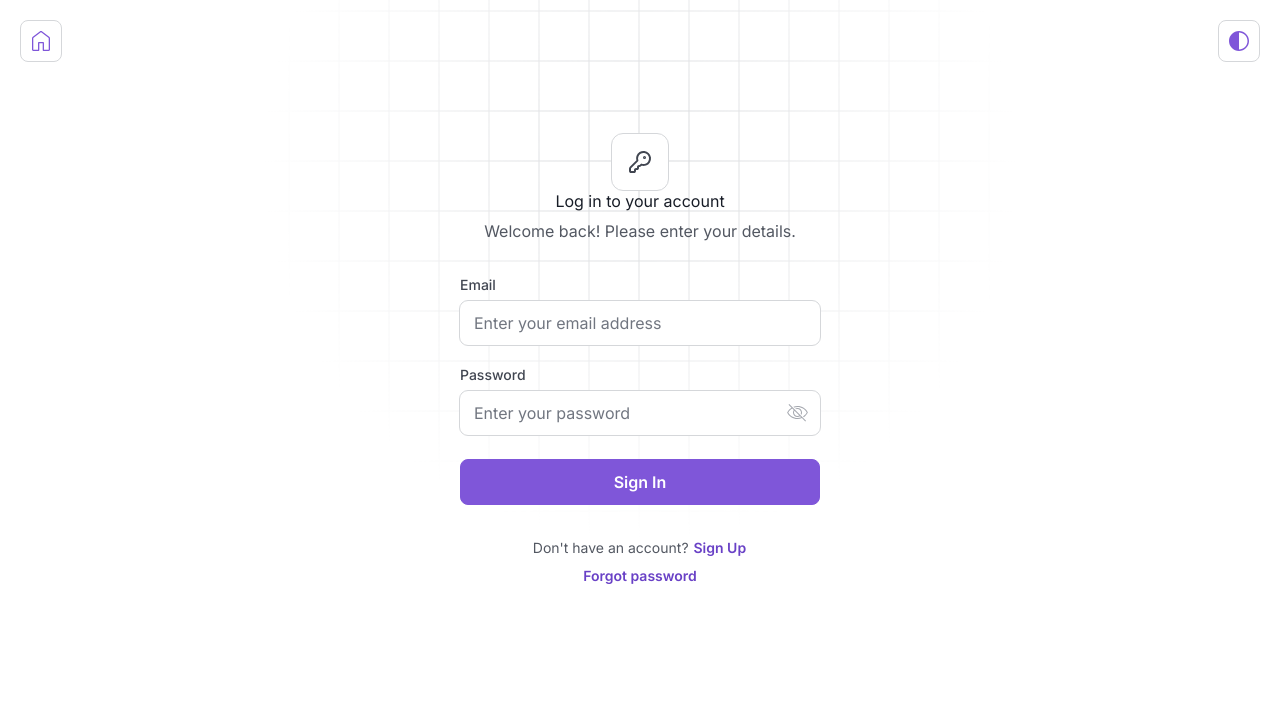
Scenario: Sign In Journey › Java Script Enabled › should display an error for non-existent account
This screenshot has width=1280, height=720.
Type "account-not-exists@not-existed.zone" into the field with test id "auth-form-email". click: (640, 323)
box: [460, 301, 820, 345]
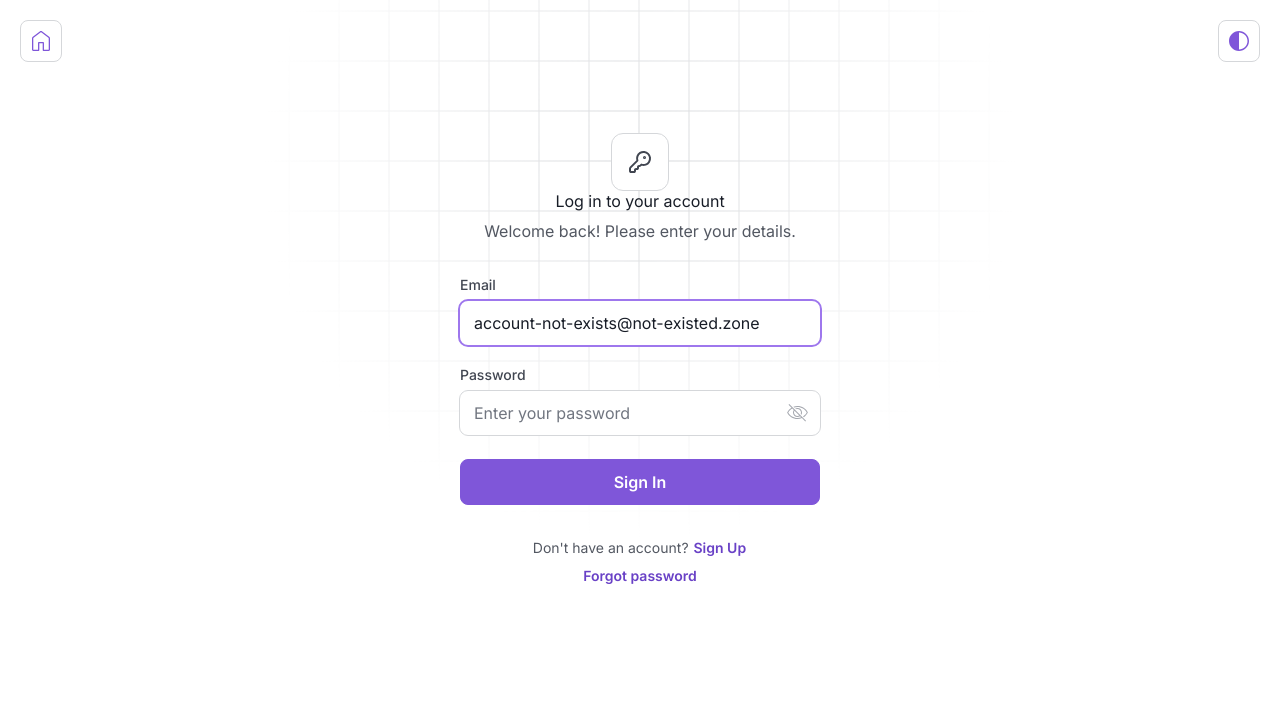
Type "Password-123" into the password field with test id "auth-form-password". click: (640, 413)
box: [460, 391, 820, 435]
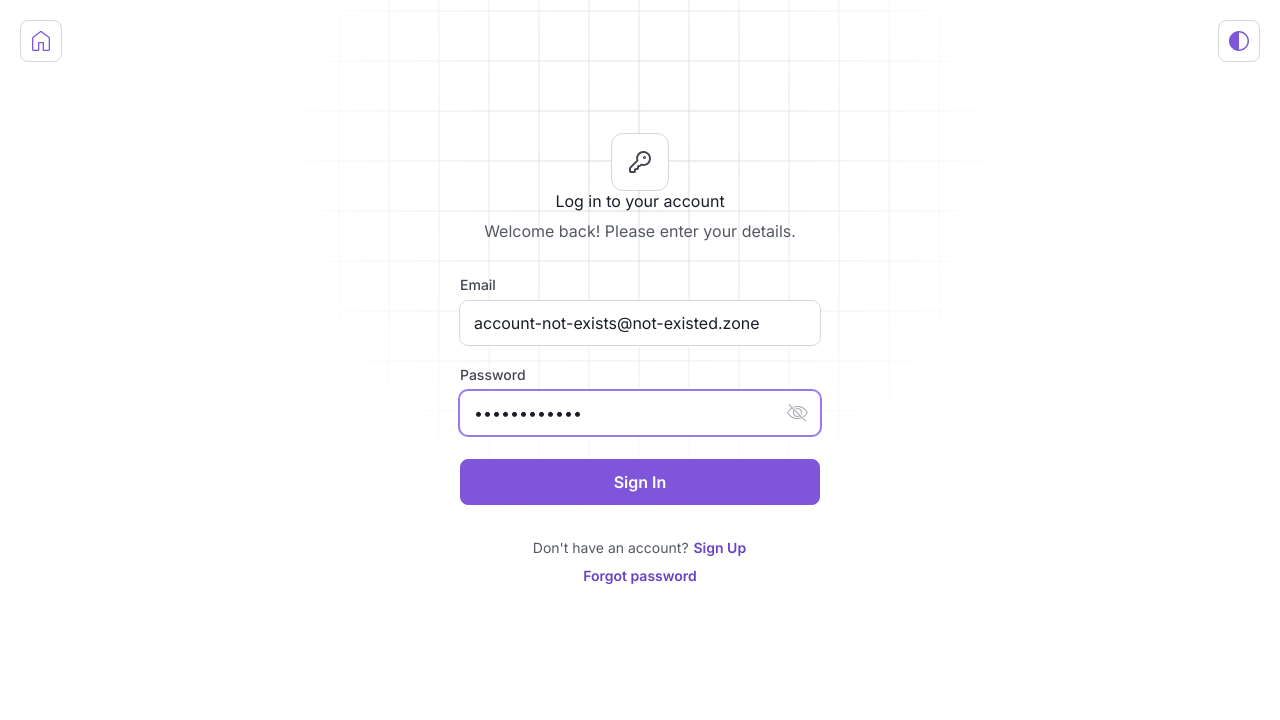
Click the button with test id "auth-form-submit-button". click: (640, 482)
box: [460, 459, 820, 505]
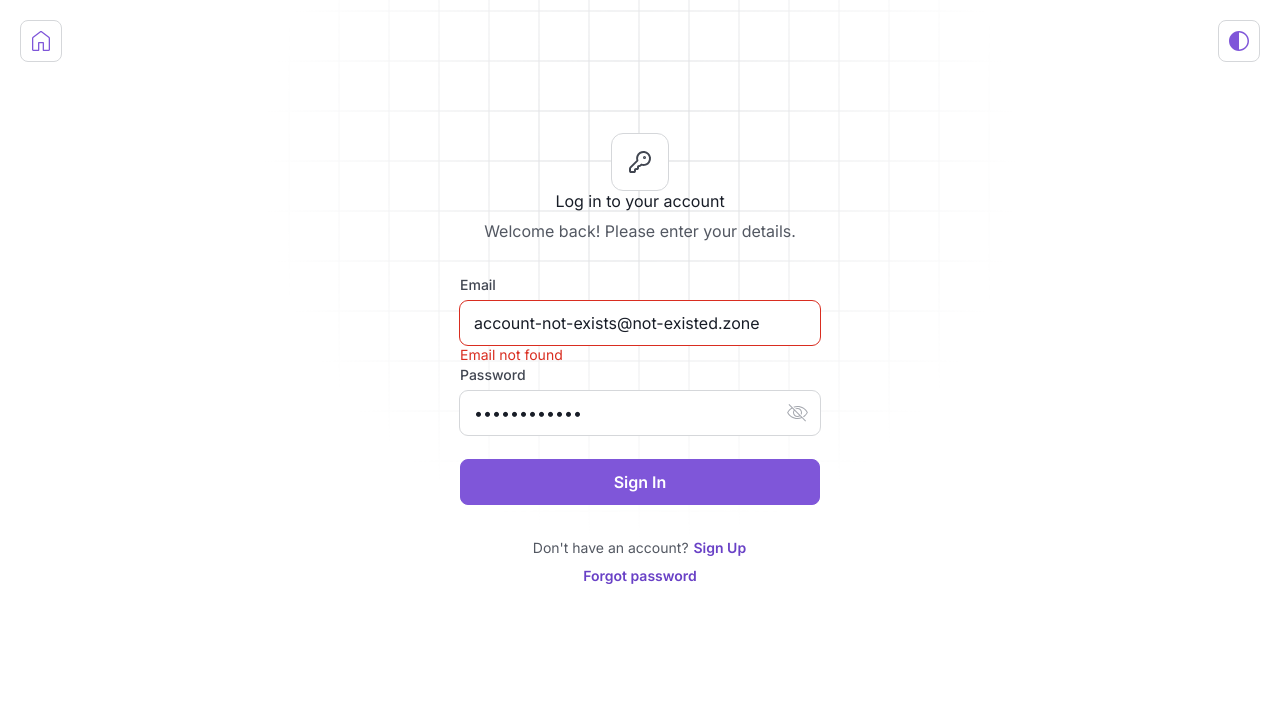
expect the text "Email not found" is shown: met, box [460, 345, 563, 365]
